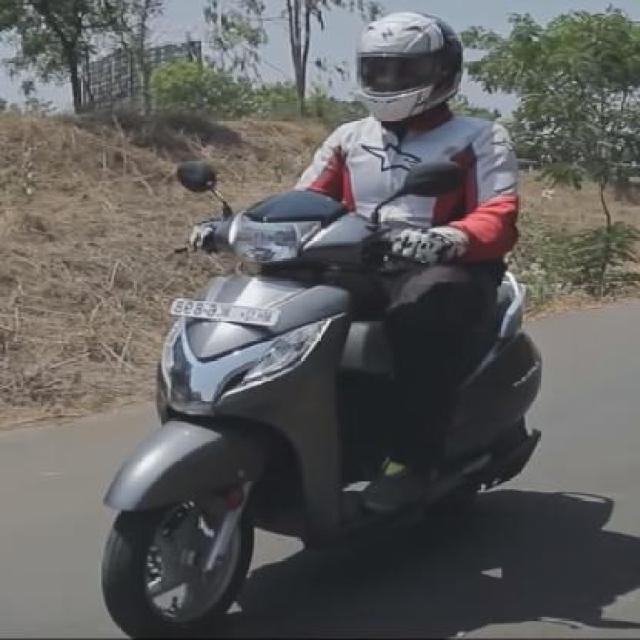helmet: (344, 13, 466, 124)
motorcycle: (89, 10, 552, 640)
